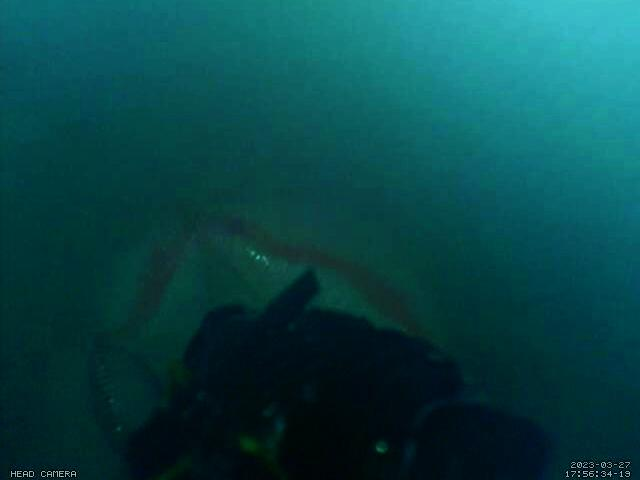head: (85, 213, 422, 458)
